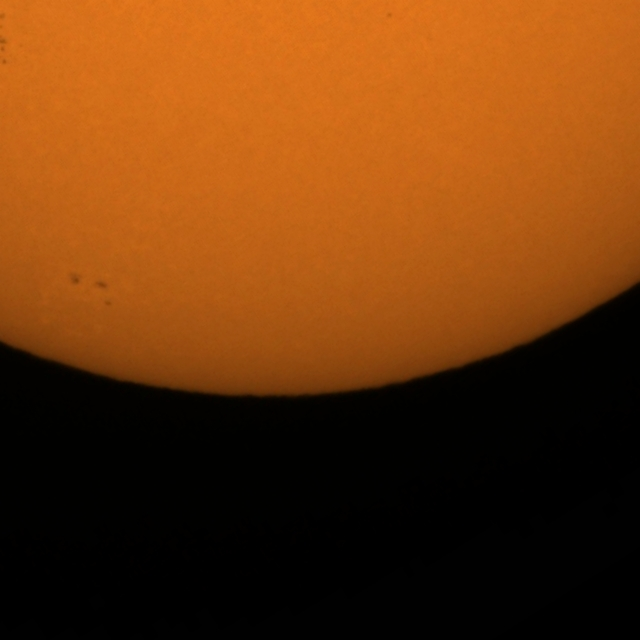sunspot: (68, 276, 111, 304), (0, 36, 21, 67), (92, 278, 111, 300), (0, 35, 10, 68), (68, 271, 83, 287), (0, 9, 7, 31), (102, 298, 113, 308), (385, 11, 394, 20), (0, 10, 6, 22)
